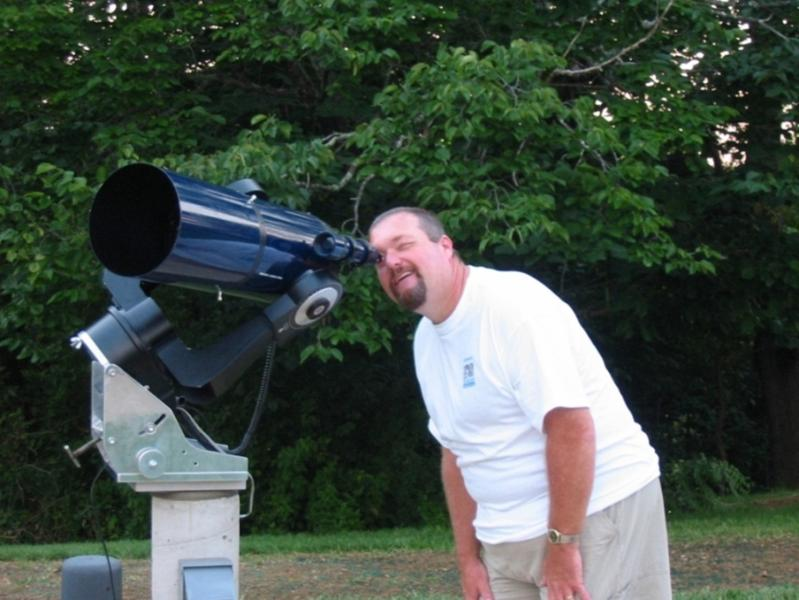person: (366, 208, 674, 600)
